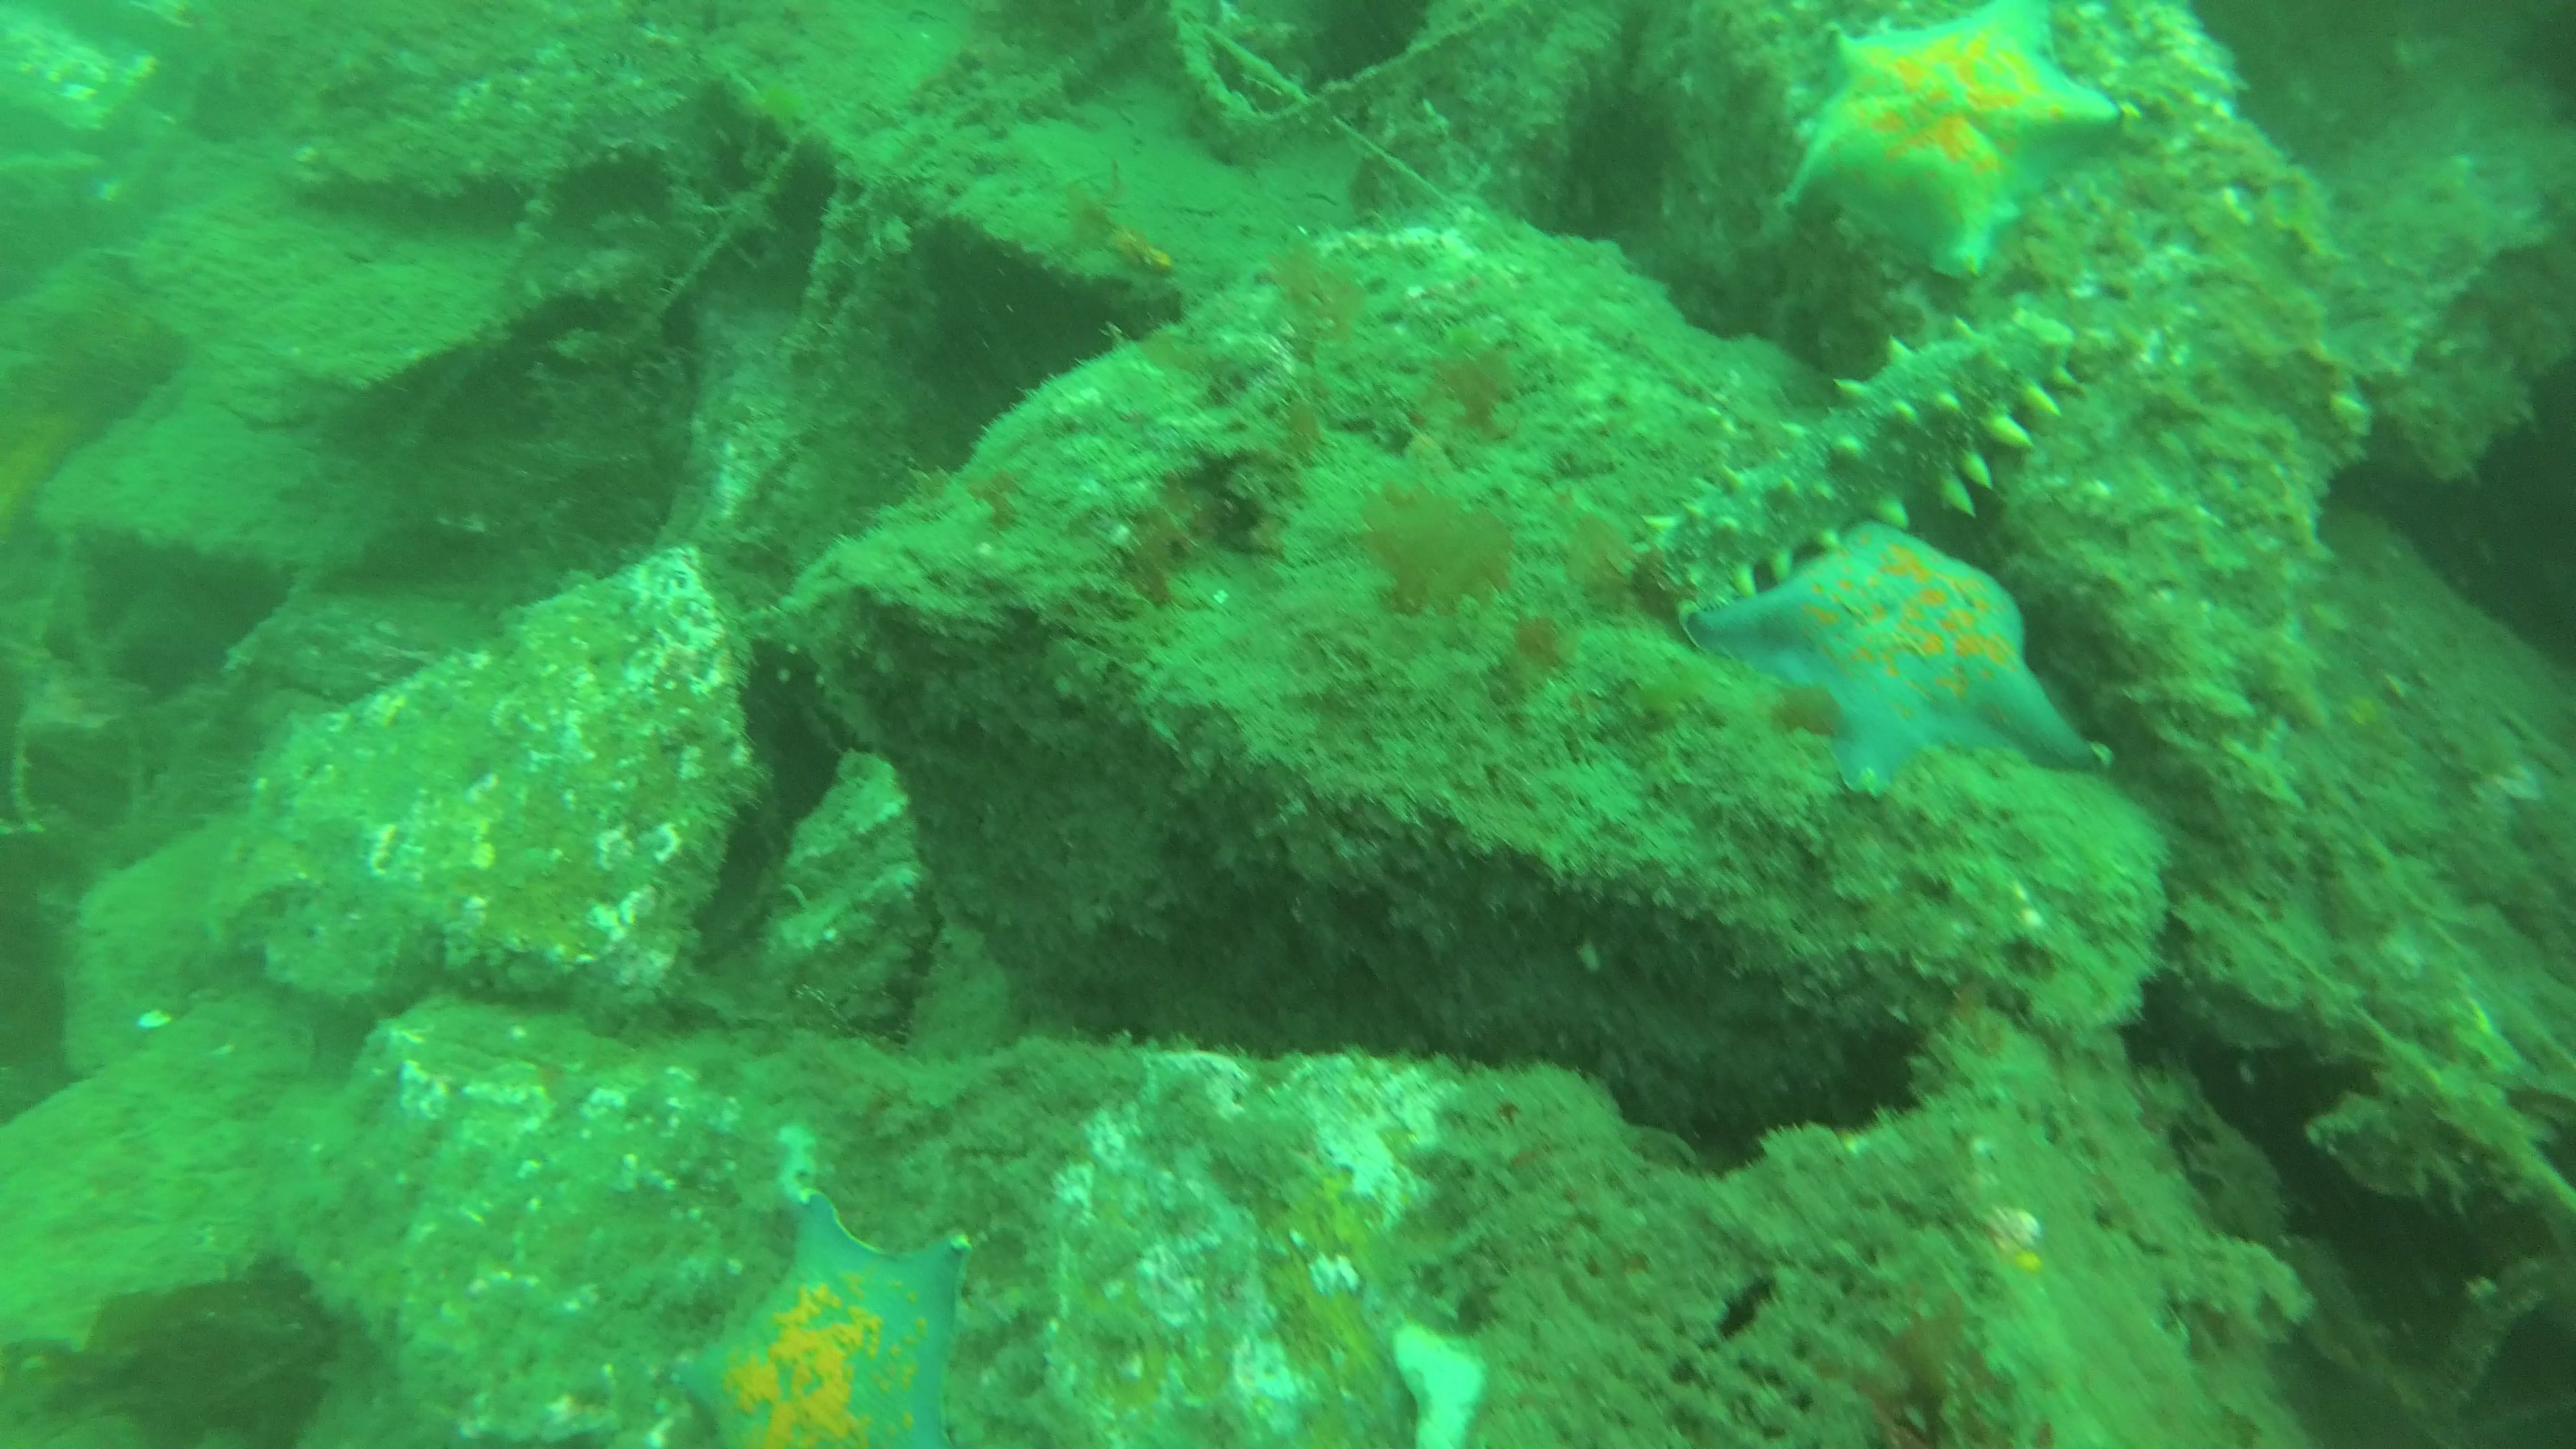holothurian: (1638, 318, 2077, 598)
starfish: (1711, 495, 2112, 798), (1773, 2, 2128, 292), (658, 1191, 970, 1449)
